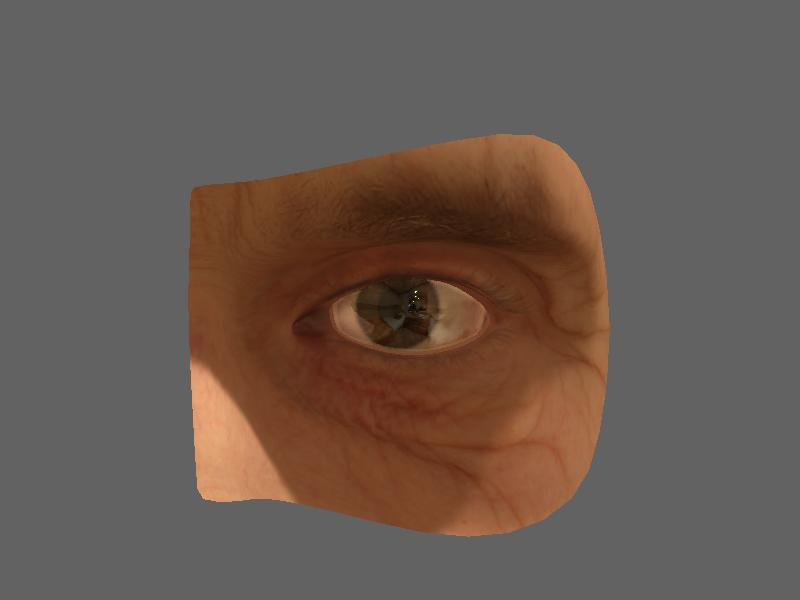iris: (361, 280, 441, 348)
